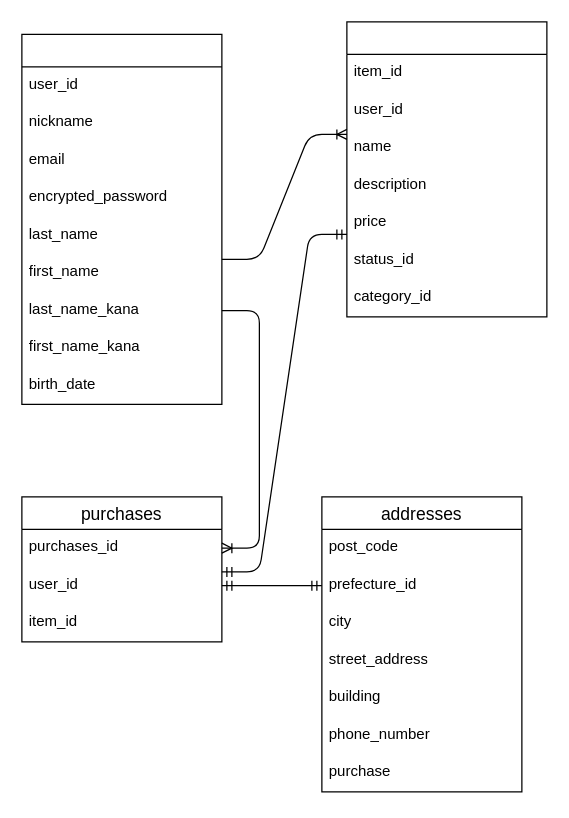
The diagram is 569 pixels wide and 818 high, and some of its shapes have lost their labels. Here are the shapes that lost their labels. From the top down, the box of each, then its label:
(346, 21, 547, 317): items
(21, 33, 222, 404): users
